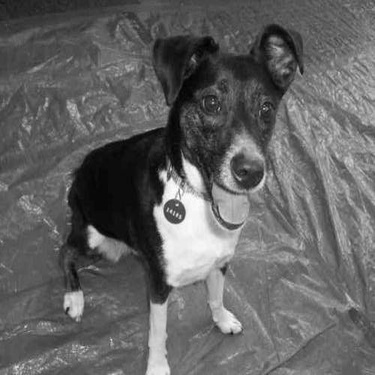dog: (42, 16, 310, 370)
